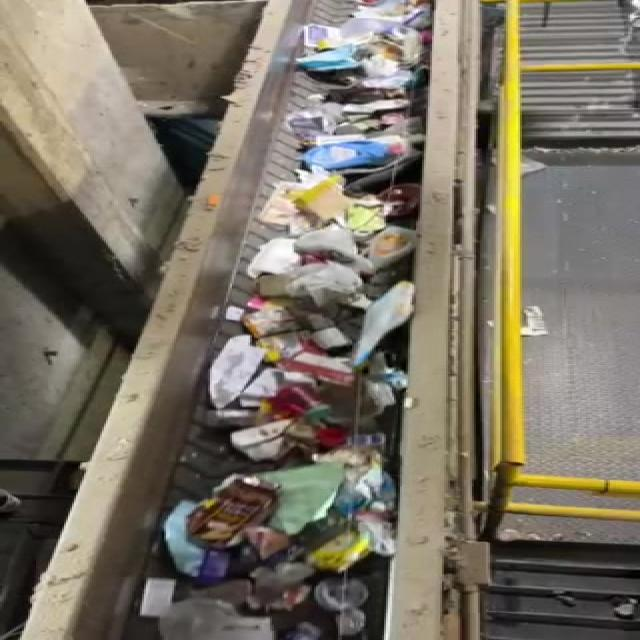hdpe: (355, 276, 420, 376)
paper: (184, 328, 272, 406), (200, 413, 357, 455), (114, 570, 180, 622)
pp: (172, 464, 287, 553), (310, 572, 378, 640)
